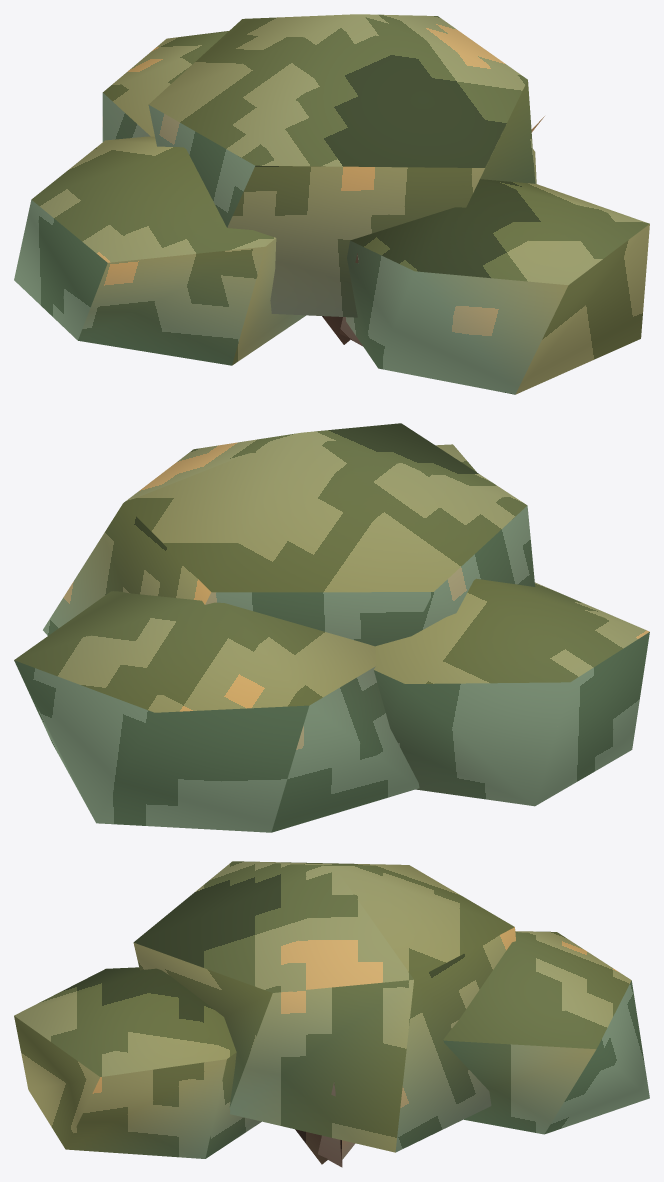
File: wland.scrub.glb
The picture shows the model from 3 angles, top to bottom: view 1: azimuth 30°, elevation 25°; view 2: azimuth 150°, elevation 25°; view 3: azimuth 270°, elevation 25°; orthographic projection. The views are drawn at different scales.
Parts seen in each view (by area): view 1: kit_foliage, kit_stems; view 2: kit_foliage; view 3: kit_foliage, kit_stems.
Part boxes in pixels (x1,y1,x2,y2): kit_foliage: [14, 14, 649, 394]; kit_stems: [322, 116, 544, 346]; kit_foliage: [14, 423, 649, 832]; kit_foliage: [14, 861, 649, 1158]; kit_stems: [295, 1082, 355, 1167].
Size of the model in its own units: 0.972 by 0.6024 by 1.17.
2 materials, 2 textured.
